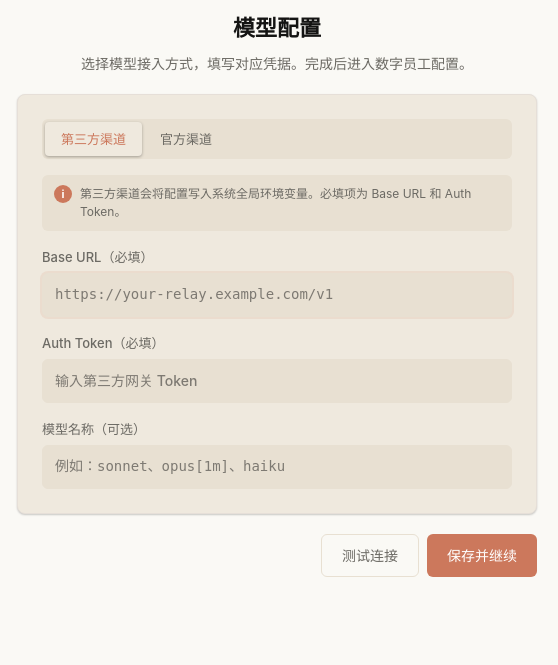
Test: ModelConfig Page › Validation › shows error for missing base URL in third-party mode
This screenshot has width=558, height=665.
Click the button "保存并继续" at (482, 556), box x1=427 y1=534 x2=537 y2=577
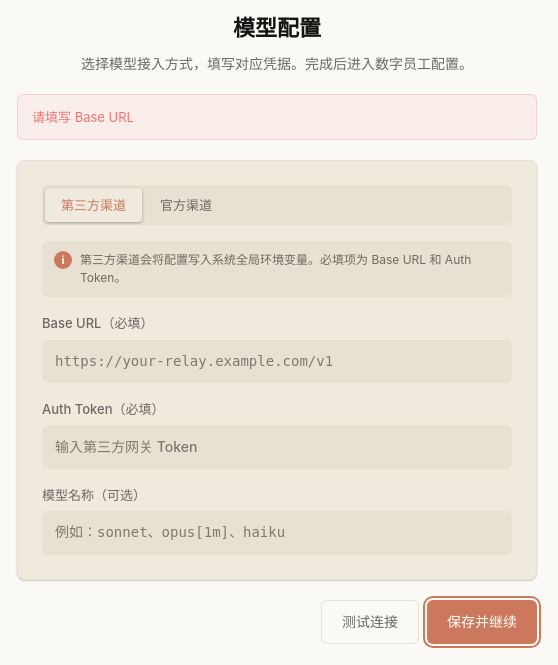
Expected: the text "请填写 Base URL" is shown, x1=17 y1=94 x2=537 y2=140
